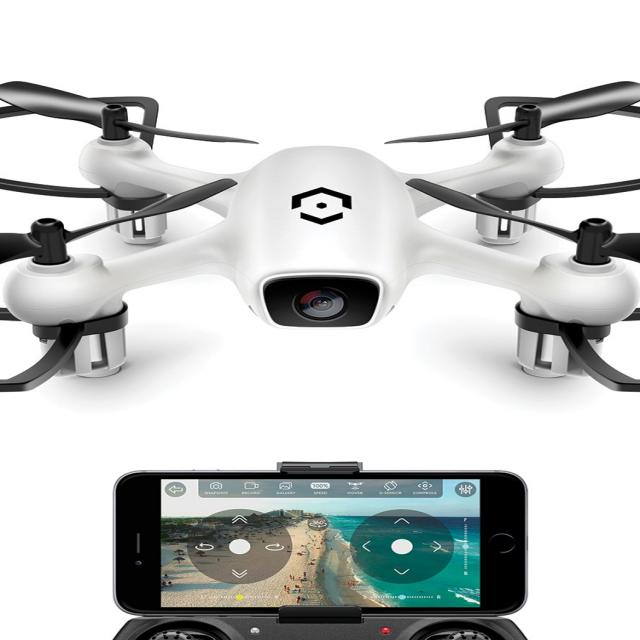drone: (0, 48, 640, 403)
